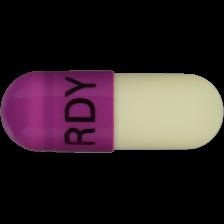55111-586: (0, 0, 224, 224)
